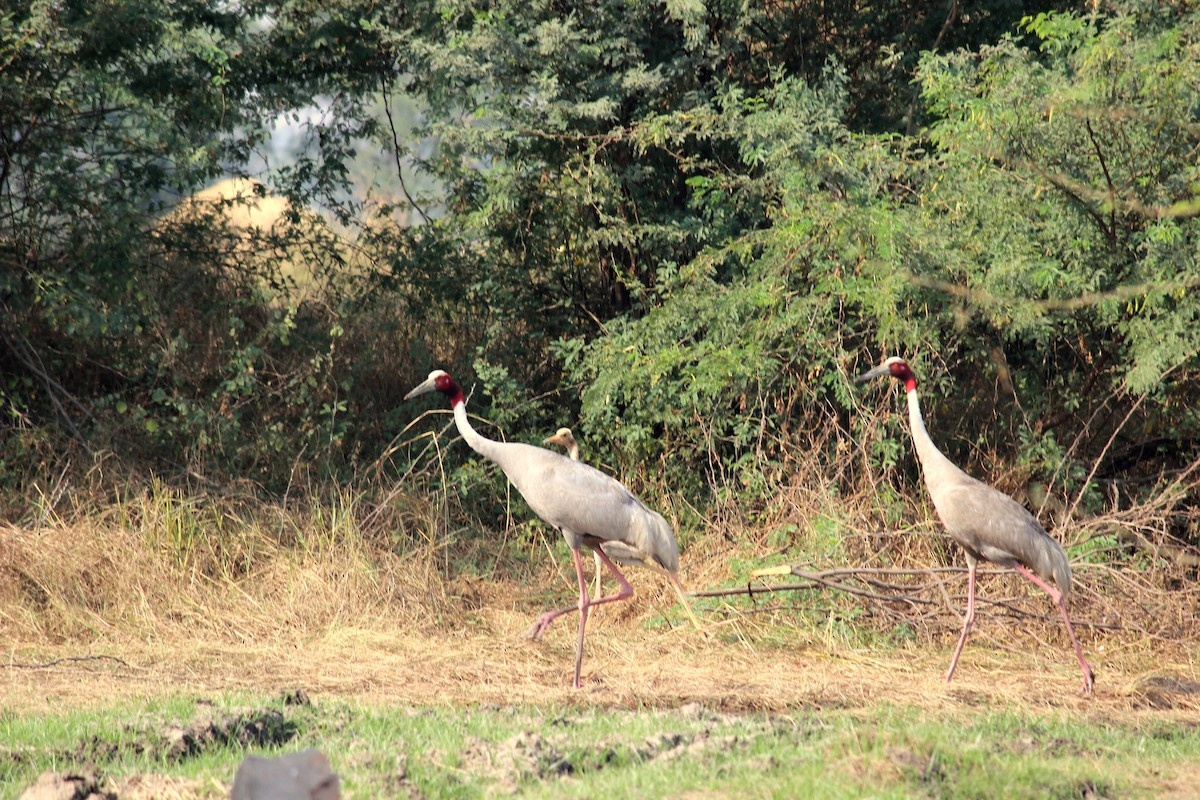crane: (858, 349, 1120, 706), (398, 365, 682, 680)
